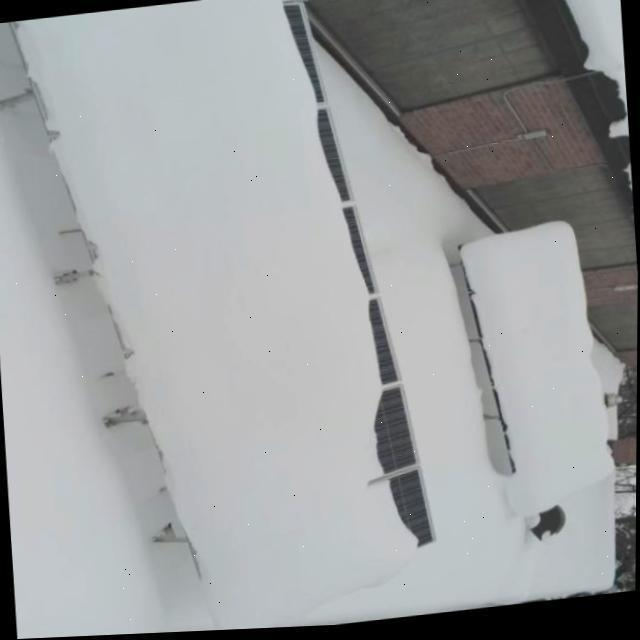Anomaly Solar Panel: (14, 0, 435, 630), (458, 231, 618, 520)
Snow: (12, 0, 426, 622), (460, 228, 613, 515)
